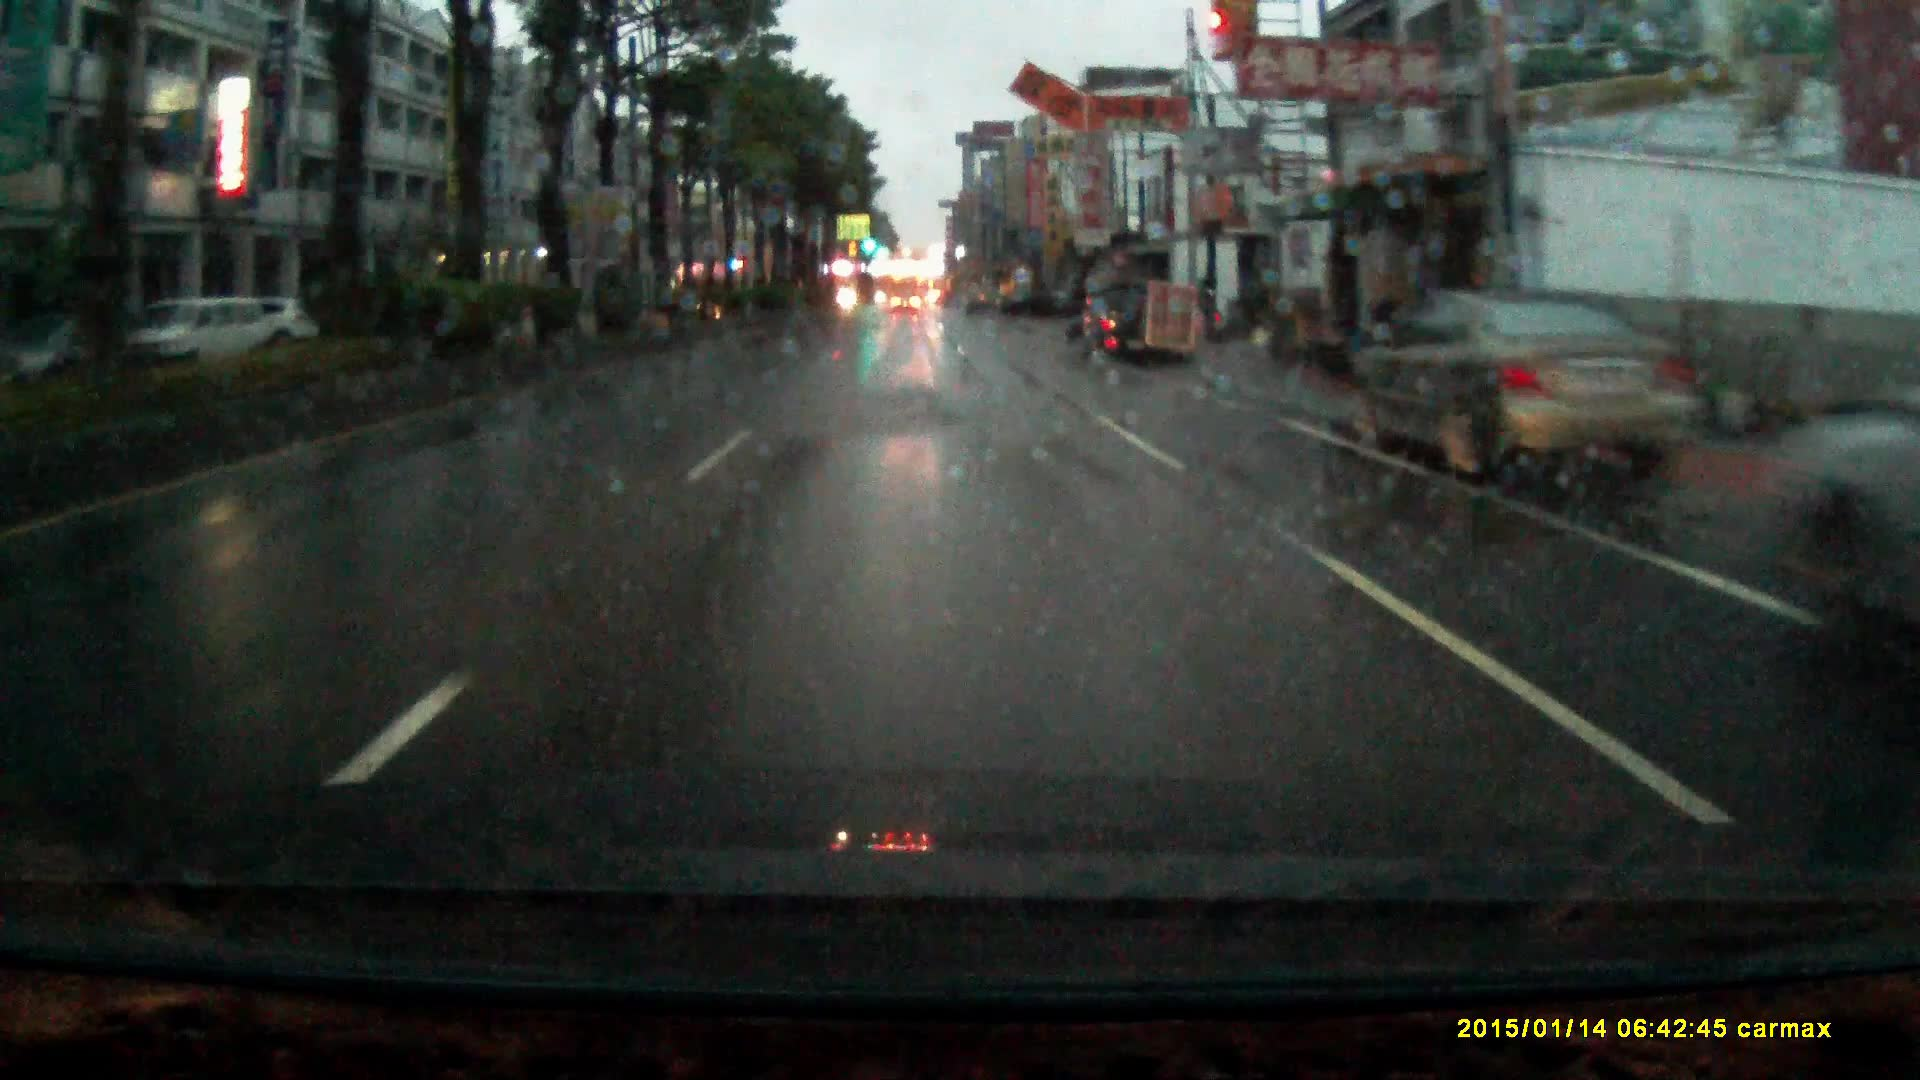vehicle: (1348, 280, 1718, 483), (121, 301, 276, 371), (1073, 270, 1182, 365), (18, 307, 138, 373), (891, 291, 920, 313)
